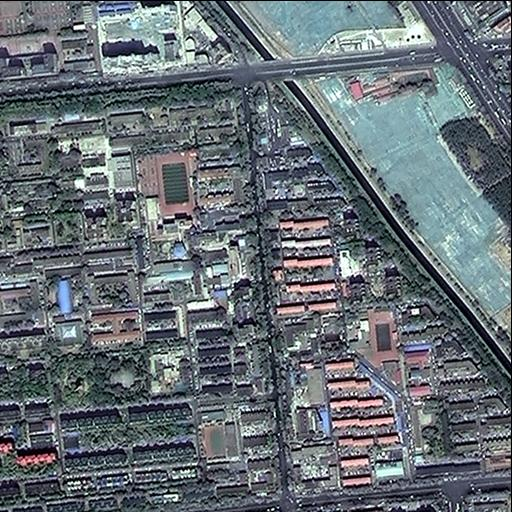school: (135, 148, 195, 273), (365, 304, 434, 398), (195, 399, 241, 471)
